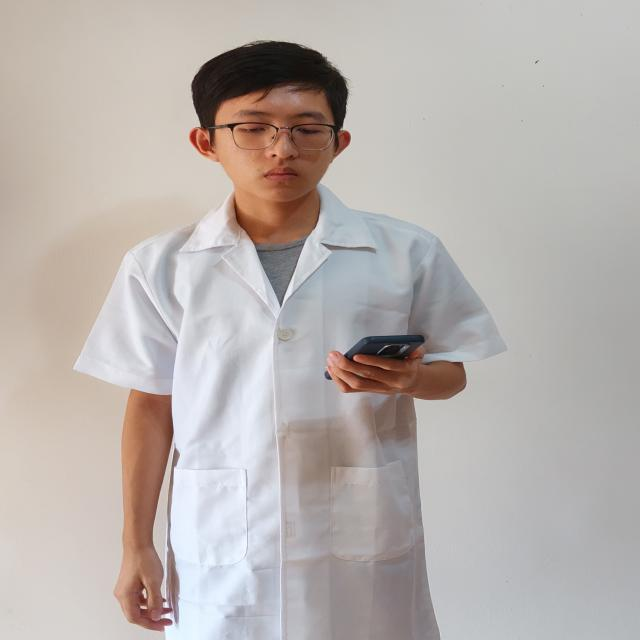person_with_labcoat: (75, 42, 505, 640)
